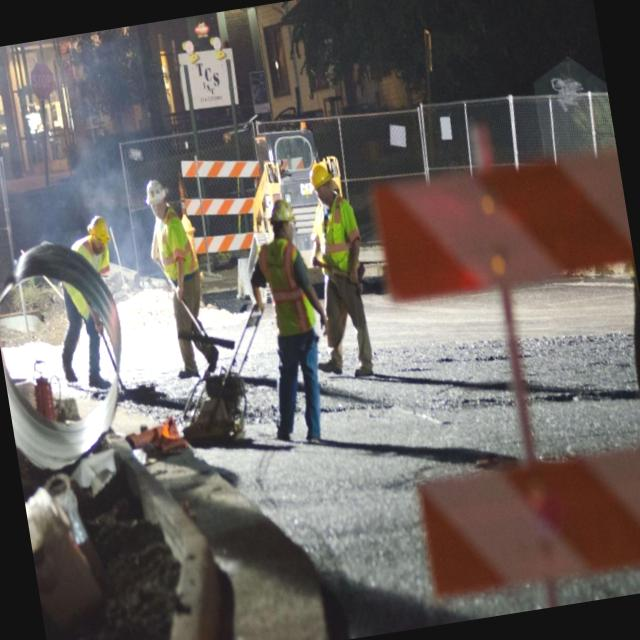helmet: (140, 174, 176, 225), (84, 210, 117, 260), (302, 161, 339, 203)
vest: (252, 230, 324, 348), (145, 217, 207, 300), (310, 198, 370, 278)
